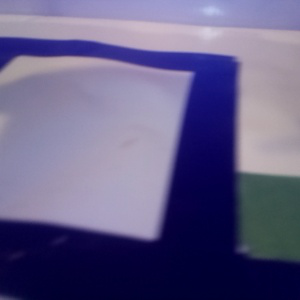top_right: (174, 172, 299, 300)
